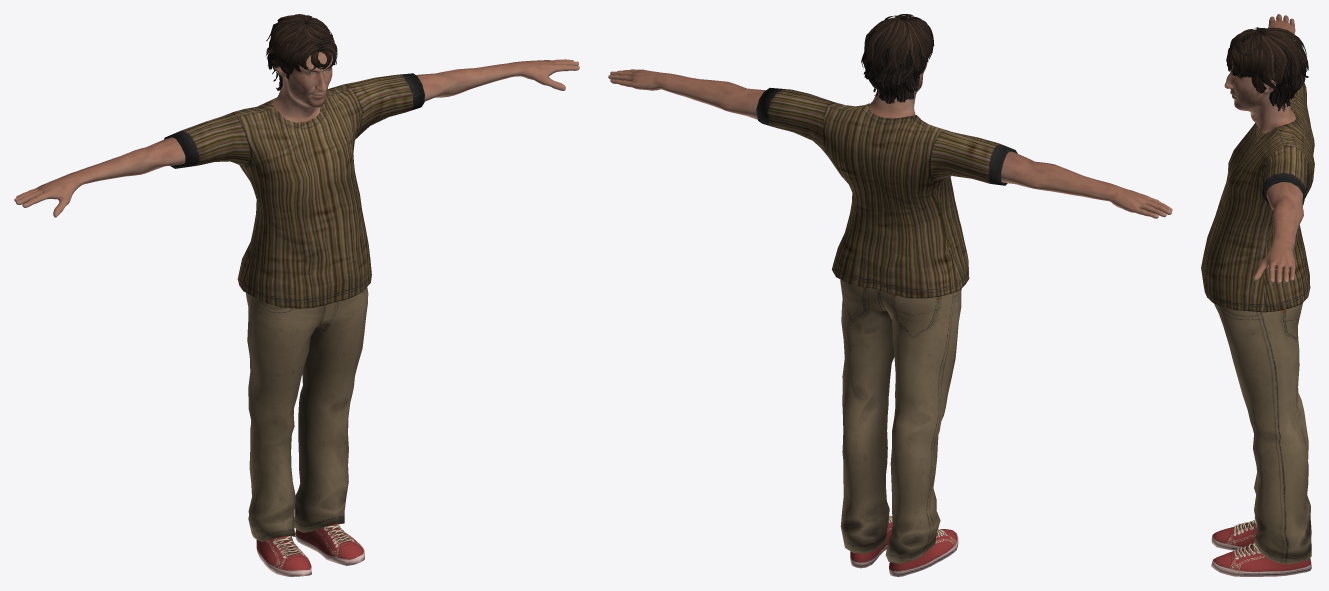
File: Player_1.obj
The picture shows the model from 3 angles, left to right: view 1: azimuth 30°, elevation 25°; view 2: azimuth 150°, elevation 25°; view 3: azimuth 270°, elevation 25°; orthographic projection.
Visible parts, largest first — view 1: Tops, Bottoms, Body, Shoes, Hair; view 2: Tops, Bottoms, Body, Hair, Shoes; view 3: Bottoms, Tops, Body, Hair, Shoes.
Boxes of the visible parts, bbox=[...] form: Tops: bbox=[164, 73, 424, 308]; Bottoms: bbox=[246, 287, 368, 541]; Body: bbox=[14, 45, 579, 217]; Shoes: bbox=[256, 523, 364, 576]; Hair: bbox=[266, 14, 337, 90]; Tops: bbox=[756, 88, 1017, 298]; Bottoms: bbox=[840, 279, 961, 563]; Body: bbox=[608, 62, 1172, 218]; Hair: bbox=[861, 14, 934, 103]; Shoes: bbox=[850, 516, 958, 576]; Bottoms: bbox=[1214, 303, 1311, 564]; Tops: bbox=[1201, 82, 1314, 312]; Body: bbox=[1224, 14, 1303, 283]; Hair: bbox=[1226, 27, 1308, 111]; Shoes: bbox=[1211, 520, 1311, 576].
Bounding box in the file's own units: 198 × 181 × 35.29.
2 materials, 2 textured.
